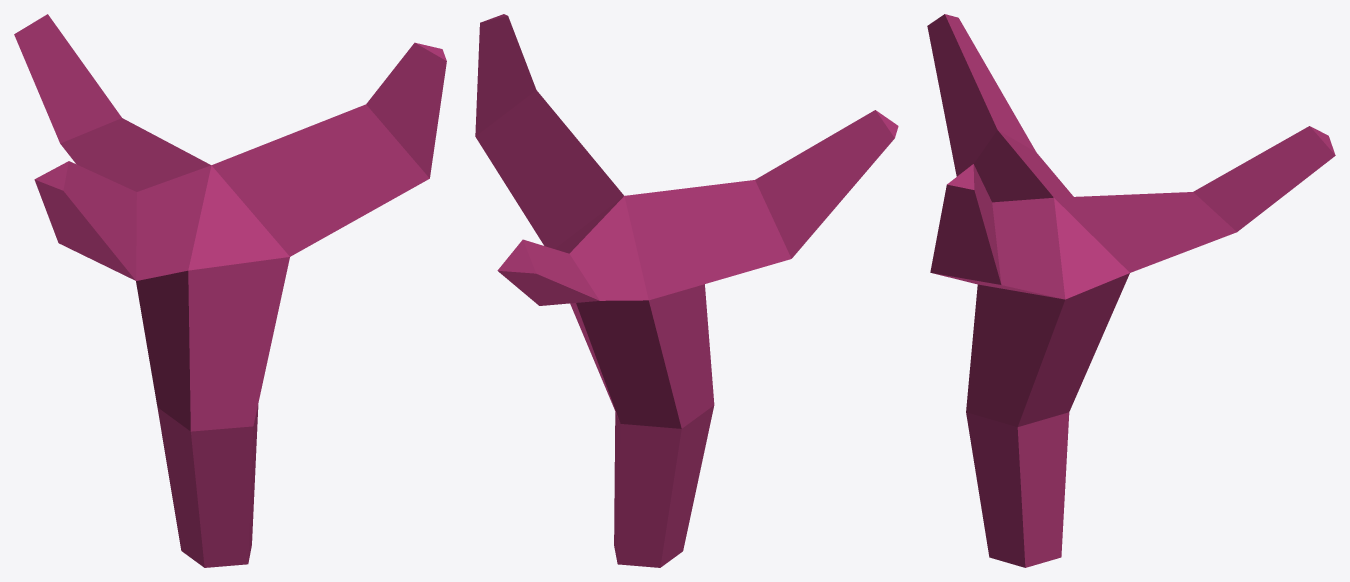
Rendered from Coral A.fbx.
The picture shows the model from 3 angles, left to right: view 1: azimuth 30°, elevation 25°; view 2: azimuth 150°, elevation 25°; view 3: azimuth 270°, elevation 25°; orthographic projection. The views are drawn at different scales.
Parts seen in each view (by area): view 1: Cylinder001; view 2: Cylinder001; view 3: Cylinder001.
Boxes of the visible parts, left/top/right/bottom form: Cylinder001: left=14, top=14, right=446, bottom=567; Cylinder001: left=475, top=14, right=898, bottom=567; Cylinder001: left=927, top=14, right=1335, bottom=567.
Size of the model in its own units: 16.92 by 19 by 15.05.
1 material, 1 textured.
